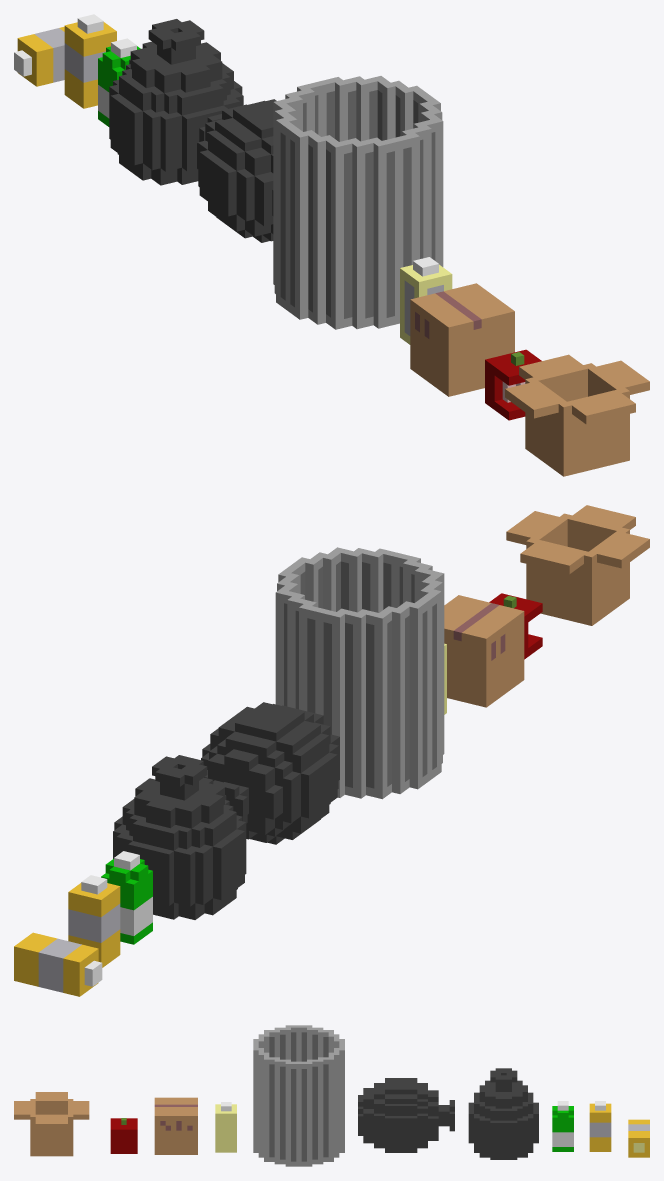
Rendered from TRASH.fbx.
3 views of the same model, one above another, from view 1: azimuth 30°, elevation 25°; view 2: azimuth 150°, elevation 25°; view 3: azimuth 270°, elevation 25° (orthographic). The views are drawn at different scales.
Parts seen in each view (by area): view 1: Cube.6857, Cube.5677, Cube.2614, Cube.5800, Cube.4028, Cube.4217, Cube.1855, Cube.2982, Cube.2675, Cube.4322; view 2: Cube.6857, Cube.5677, Cube.5800, Cube.2614, Cube.4028, Cube.1855, Cube.4217, Cube.4322, Cube.2982; view 3: Cube.6857, Cube.5800, Cube.5677, Cube.2614, Cube.4028, Cube.4217, Cube.2675, Cube.4322, Cube.2982, Cube.1855.
Part boxes in pixels (left/top/right/bottom): Cube.6857: left=273, top=76, right=443, bottom=329; Cube.5677: left=109, top=19, right=243, bottom=185; Cube.2614: left=505, top=354, right=649, bottom=476; Cube.5800: left=197, top=99, right=276, bottom=242; Cube.4028: left=410, top=283, right=514, bottom=396; Cube.4217: left=64, top=14, right=116, bottom=108; Cube.1855: left=14, top=26, right=64, bottom=86; Cube.2982: left=485, top=349, right=541, bottom=420; Cube.2675: left=400, top=257, right=452, bottom=344; Cube.4322: left=98, top=38, right=140, bottom=126; Cube.6857: left=275, top=547, right=444, bottom=799; Cube.5677: left=113, top=755, right=246, bottom=919; Cube.5800: left=201, top=702, right=339, bottom=844; Cube.2614: left=506, top=505, right=649, bottom=625; Cube.4028: left=444, top=595, right=524, bottom=707; Cube.1855: left=14, top=932, right=102, bottom=996; Cube.4217: left=68, top=875, right=120, bottom=967; Cube.4322: left=101, top=851, right=152, bottom=944; Cube.2982: left=489, top=593, right=542, bottom=659; Cube.6857: left=253, top=1025, right=344, bottom=1166; Cube.5800: left=358, top=1078, right=454, bottom=1152; Cube.5677: left=468, top=1068, right=538, bottom=1159; Cube.2614: left=14, top=1092, right=89, bottom=1156; Cube.4028: left=154, top=1097, right=197, bottom=1154; Cube.4217: left=589, top=1101, right=611, bottom=1151; Cube.2675: left=215, top=1102, right=236, bottom=1152; Cube.4322: left=552, top=1101, right=573, bottom=1151; Cube.2982: left=110, top=1118, right=137, bottom=1153; Cube.1855: left=628, top=1119, right=649, bottom=1157.
Bounding box in the file's own units: 11798 × 1700 × 2100.
